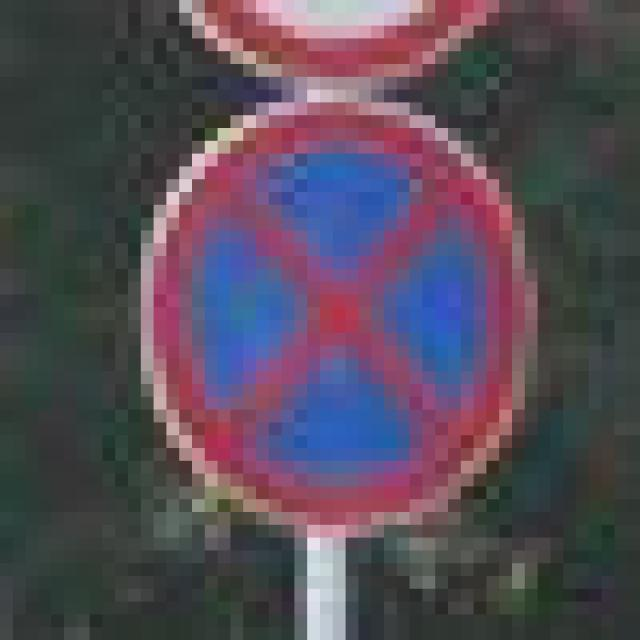no stopping or standing: (139, 107, 530, 522)
